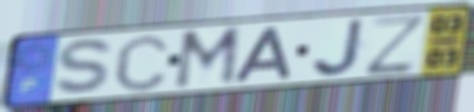A: (230, 24, 296, 85)
C: (111, 32, 172, 94)
J: (309, 16, 369, 79)
M: (171, 23, 245, 93)
S: (50, 37, 119, 98)
Z: (362, 11, 430, 78)
